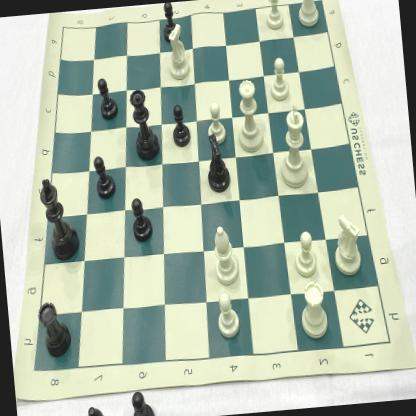black-king: (38, 171, 86, 265)
black-knight: (202, 132, 234, 195)
black-pawn: (126, 192, 155, 244), (92, 152, 120, 204), (94, 74, 123, 122), (168, 101, 194, 150), (158, 2, 182, 44)
black-queen: (127, 84, 162, 164)
black-rook: (36, 296, 76, 359)
white-bishop: (209, 220, 245, 288)
white-king: (272, 100, 314, 190)
white-knight: (330, 209, 369, 278), (162, 21, 196, 82)
white-pawn: (214, 288, 244, 342), (290, 228, 320, 280), (202, 99, 231, 148), (266, 55, 291, 107), (262, 0, 289, 33)
white-queen: (232, 76, 266, 154)
white-rook: (296, 280, 332, 342), (294, 0, 324, 29)
